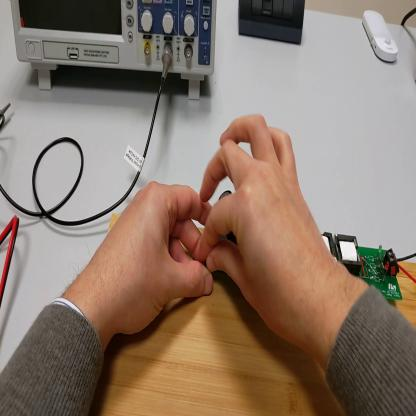hand: (198, 111, 332, 350), (96, 181, 212, 339)
high voltage board: (209, 190, 416, 301)
oscilloscope: (11, 2, 219, 103)
oscilloscope probe tip: (1, 102, 11, 123)
working area: (98, 226, 416, 416)
